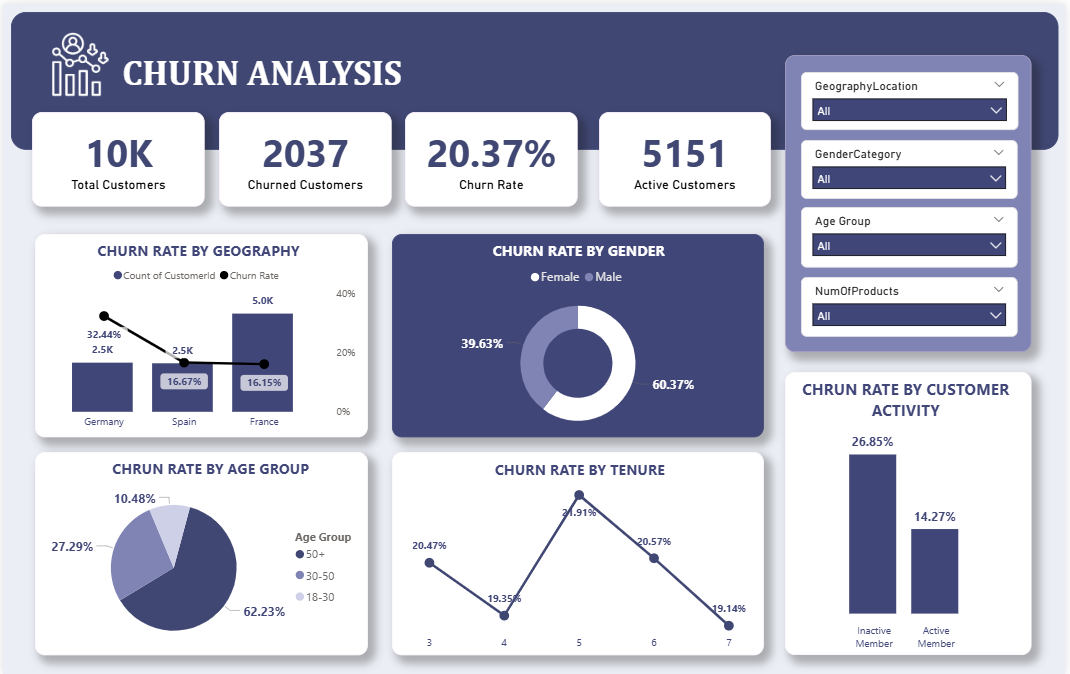

What the dashboard file says about the page in this screenshot:
{"tool":"powerbi","page":{"name":"CHURN ANALYSIS","canvas":[1280,809],"ordinal":1},"visuals":[{"type":"textbox","box":[9.8,9.8,1262.2,165.9],"z":0},{"type":"textbox","box":[138.6,51.4,364.3,64.3],"z":1000},{"type":"lineClusteredColumnComboChart","title":"CHURN RATE BY GEOGRAPHY","fields":{"Category":["Bank_Churn.GeographyLocation"],"Y":["CountNonNull(Bank_Churn.CustomerId)"],"Y2":["Measures Table.Churn_Rate (%)"]},"box":[38.4,276.7,401.4,245.2],"z":2000},{"type":"clusteredColumnChart","title":"CHRUN RATE BY CUSTOMER ACTIVITY","fields":{"Category":["Bank_Churn.ActiveCategory"],"Y":["Measures Table.Churn_Rate (%)"]},"box":[942.5,443.8,297.3,341.1],"z":3000},{"type":"donutChart","title":"CHURN RATE BY GENDER","fields":{"Y":["Measures Table.Churn_Rate (%)"],"Category":["Bank_Churn.GenderCategory"]},"box":[468.5,276.7,447.9,245.2],"z":4000},{"type":"card","fields":{"Values":["Measures Table.Active Customers"]},"box":[717.8,130.1,206.8,113.7],"z":5000},{"type":"lineChart","title":"CHURN RATE BY TENURE","fields":{"Category":["Bank_Churn.Tenure"],"Y":["Measures Table.Churn_Rate (%)"]},"box":[468.5,539.7,447.9,245.2],"z":6000},{"type":"card","fields":{"Values":["Measures Table.Total Customers"]},"box":[34.5,129.8,208.4,114.3],"z":7000},{"type":"textbox","box":[942.5,61.6,297.3,357.5],"z":8000},{"type":"group","id":"g1","title":"Group 1","box":[961.3,81.3,262,318.7],"z":9000},{"type":"card","fields":{"Values":["Measures Table.Churned Customers"]},"box":[260.3,130.1,208.2,113.7],"z":10000},{"type":"card","fields":{"Values":["Measures Table.Churn_Rate"]},"box":[484.9,130.1,208.2,113.7],"z":11000},{"type":"pieChart","title":"CHRUN RATE BY AGE GROUP","fields":{"Category":["Bank_Churn.Age Group"],"Y":["Measures Table.Churn_Rate (%)"]},"box":[38.4,539.7,401.4,245.2],"z":12000},{"type":"image","box":[10,10,161.4,130],"z":13000},{"type":"slicer","fields":{"Values":["Bank_Churn.GeographyLocation"]},"box":[961.3,81.3,262,69.8],"z":14000,"group":"g1"},{"type":"slicer","fields":{"Values":["Bank_Churn.Age Group"]},"box":[961.3,244,261.3,73.3],"z":15000,"group":"g1"},{"type":"slicer","fields":{"Values":["Bank_Churn.GenderCategory"]},"box":[961.3,162.6,261.3,70.7],"z":16000,"group":"g1"},{"type":"slicer","fields":{"Values":["Bank_Churn.NumOfProducts"]},"box":[961.3,328,261.3,72],"z":17000,"group":"g1"}]}

Visuals, with their boxes in screenshot pixels (x1, y1, x2, y2), scaled from the page's 1280x809 canvas onto the 1070x674 screenshot:
textbox: (left=8, top=8, right=1063, bottom=146)
textbox: (left=116, top=43, right=420, bottom=96)
"CHURN RATE BY GEOGRAPHY" lineClusteredColumnComboChart: (left=32, top=231, right=368, bottom=435)
"CHRUN RATE BY CUSTOMER ACTIVITY" clusteredColumnChart: (left=788, top=370, right=1036, bottom=654)
"CHURN RATE BY GENDER" donutChart: (left=392, top=231, right=766, bottom=435)
card - Measures Table.Active Customers: (left=600, top=108, right=773, bottom=203)
"CHURN RATE BY TENURE" lineChart: (left=392, top=450, right=766, bottom=654)
card - Measures Table.Total Customers: (left=29, top=108, right=203, bottom=203)
textbox: (left=788, top=51, right=1036, bottom=349)
"Group 1" group: (left=804, top=68, right=1023, bottom=333)
card - Measures Table.Churned Customers: (left=218, top=108, right=392, bottom=203)
card - Measures Table.Churn_Rate: (left=405, top=108, right=579, bottom=203)
"CHRUN RATE BY AGE GROUP" pieChart: (left=32, top=450, right=368, bottom=654)
image: (left=8, top=8, right=143, bottom=117)
slicer - Bank_Churn.GeographyLocation: (left=804, top=68, right=1023, bottom=126)
slicer - Bank_Churn.Age Group: (left=804, top=203, right=1022, bottom=264)
slicer - Bank_Churn.GenderCategory: (left=804, top=135, right=1022, bottom=194)
slicer - Bank_Churn.NumOfProducts: (left=804, top=273, right=1022, bottom=333)
